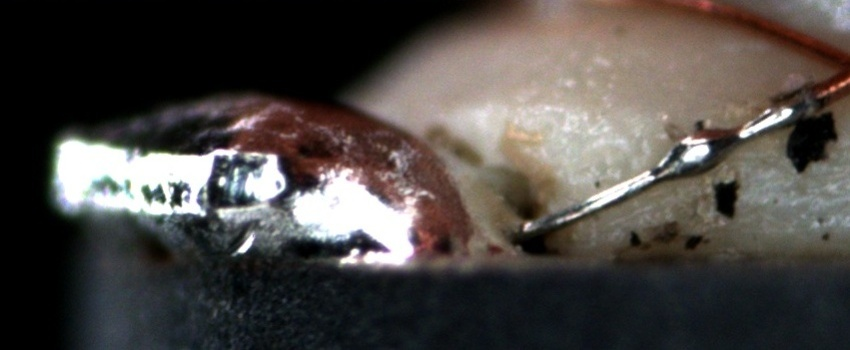DL: (470, 99, 656, 126), (716, 146, 849, 176)
TB: (640, 127, 742, 190)
TS: (521, 105, 801, 236)
TTCW: (512, 72, 846, 243)
